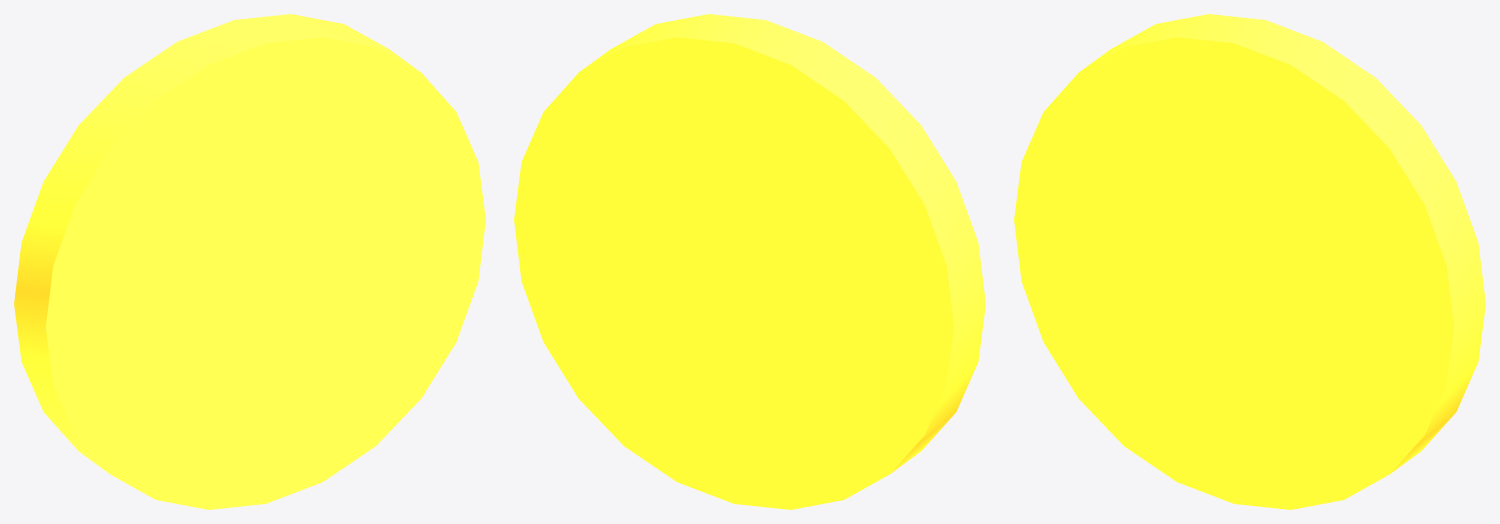
Rendered from dong_xu.glb.
The picture shows the model from 3 angles, left to right: view 1: azimuth 30°, elevation 25°; view 2: azimuth 150°, elevation 25°; view 3: azimuth 330°, elevation 25°; orthographic projection.
Visible parts, largest first — view 1: Xu; view 2: Xu; view 3: Xu.
Boxes of the visible parts, x1,y1,x2,y2 form: Xu: [14, 14, 485, 509]; Xu: [514, 14, 985, 509]; Xu: [1014, 14, 1485, 509].
Size of the model in its own units: 0.56 by 0.56 by 0.07.
